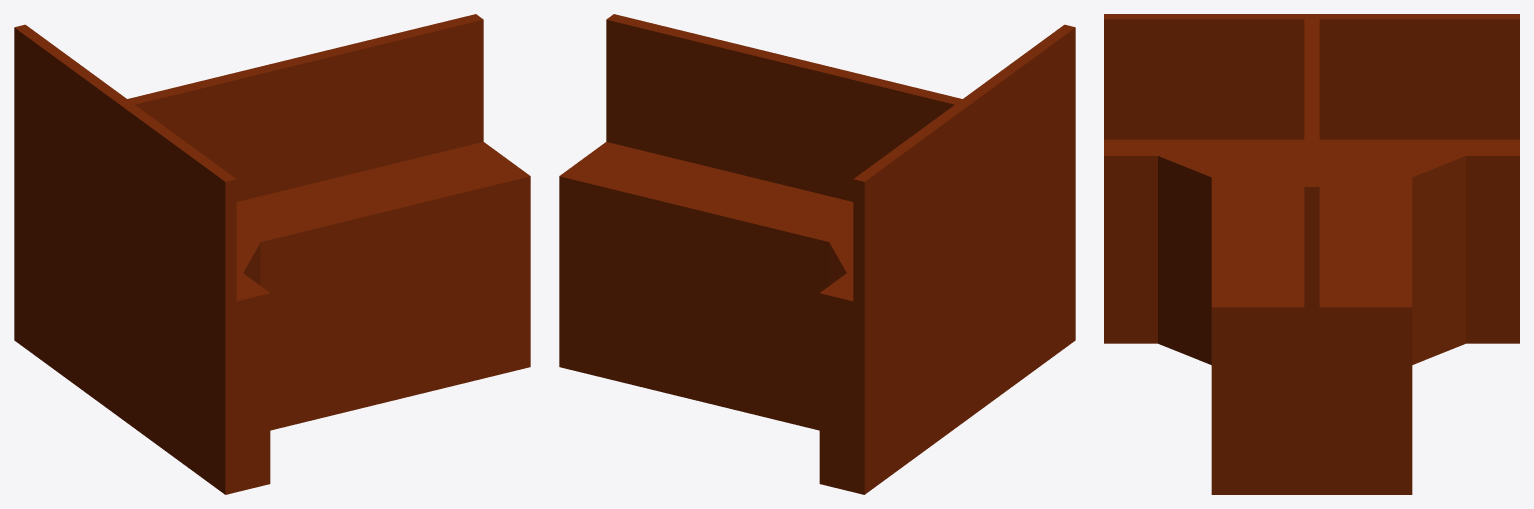
The model's file is Obj_doubleCubicle.fbx.
3 views of the same model, side by side, from view 1: azimuth 30°, elevation 25°; view 2: azimuth 150°, elevation 25°; view 3: azimuth 270°, elevation 25° (orthographic).
Visible parts, largest first — view 1: Obj_Office_Cubicle_Double; view 2: Obj_Office_Cubicle_Double; view 3: Obj_Office_Cubicle_Double.
Part boxes in pixels (x1=…): Obj_Office_Cubicle_Double: x1=14, y1=14, x2=530, y2=494; Obj_Office_Cubicle_Double: x1=559, y1=14, x2=1075, y2=494; Obj_Office_Cubicle_Double: x1=1104, y1=14, x2=1519, y2=494.
Bounding box in the file's own units: 199 × 165 × 202.
